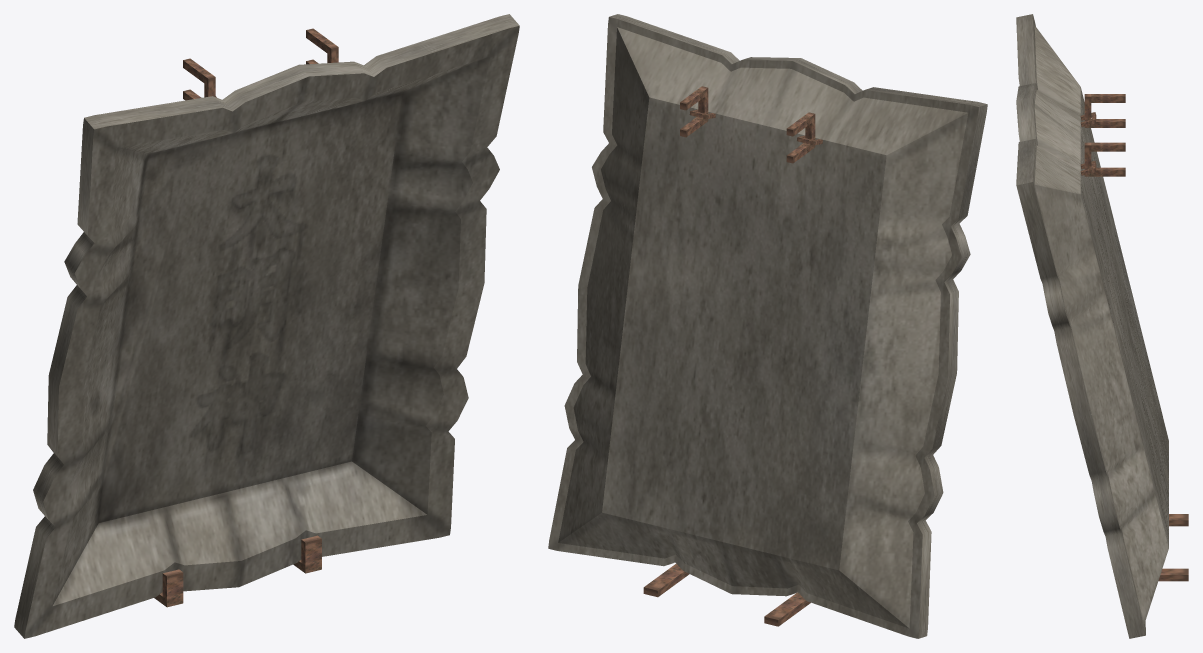
The model's file is Torii_Accessory_Sign10.fbx.
3 renders of one model, left to right at view 1: azimuth 30°, elevation 25°; view 2: azimuth 150°, elevation 25°; view 3: azimuth 270°, elevation 25°, orthographic. The views are drawn at different scales.
Visible parts, largest first — view 1: Torii_access_sign10; view 2: Torii_access_sign10; view 3: Torii_access_sign10.
Boxes of the visible parts, x1,y1,x2,y2 form: Torii_access_sign10: [14, 14, 519, 638]; Torii_access_sign10: [548, 14, 987, 638]; Torii_access_sign10: [1016, 14, 1188, 638].
Size of the model in its own units: 0.6719 by 0.8541 by 0.2915.
